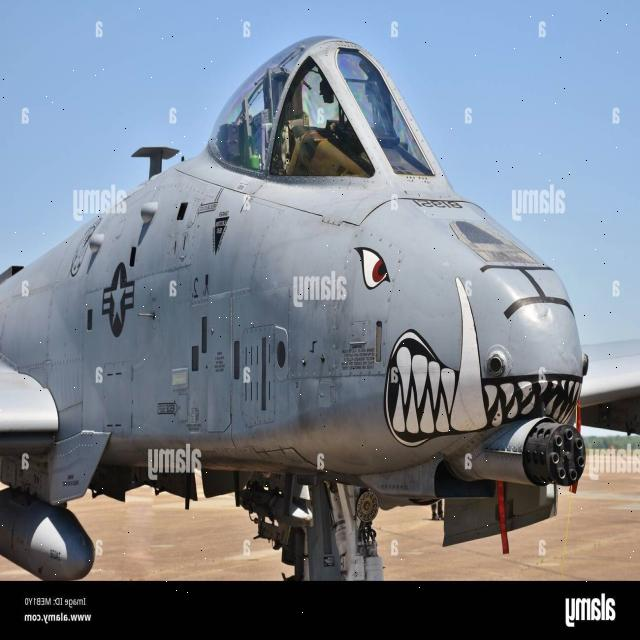A10: (0, 12, 629, 598)
